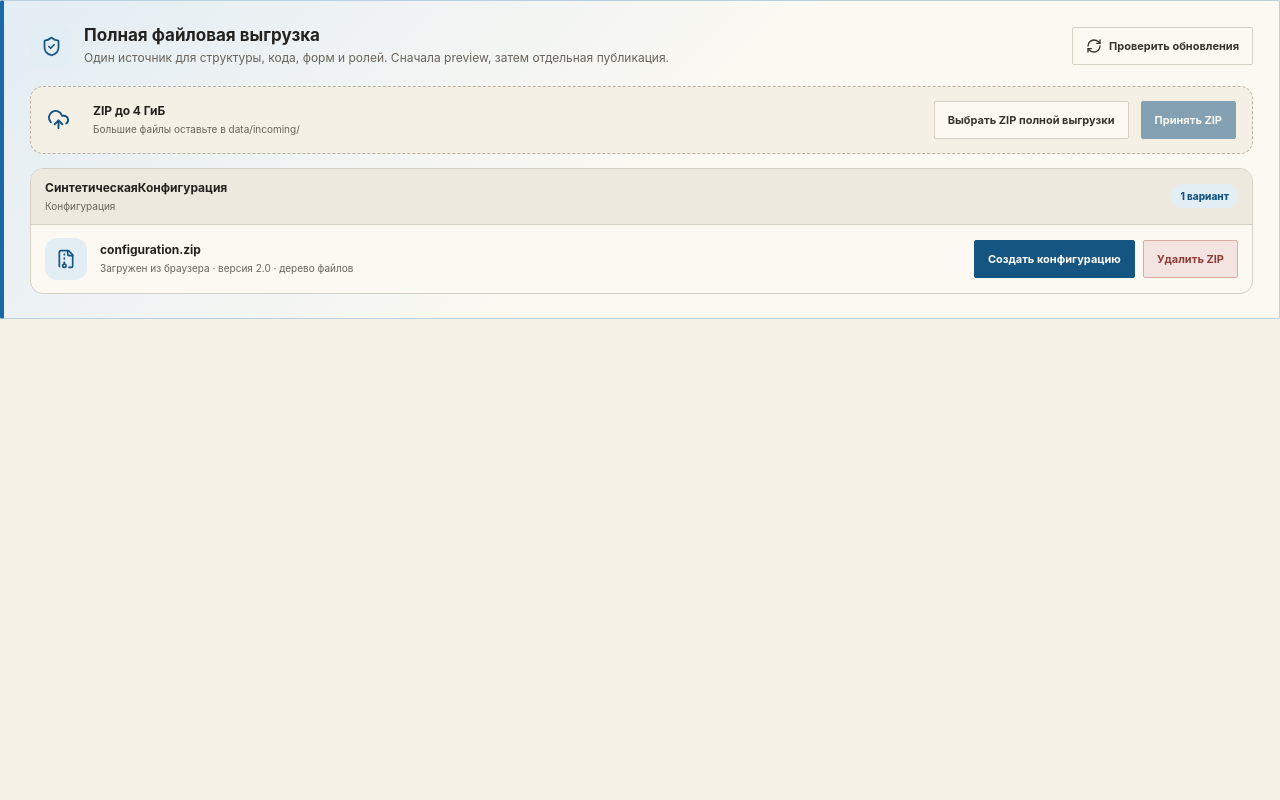
удаляет только браузерный ZIP после подтверждения
Click the button "Удалить ZIP": (1190, 259) [1143,240,1238,278]
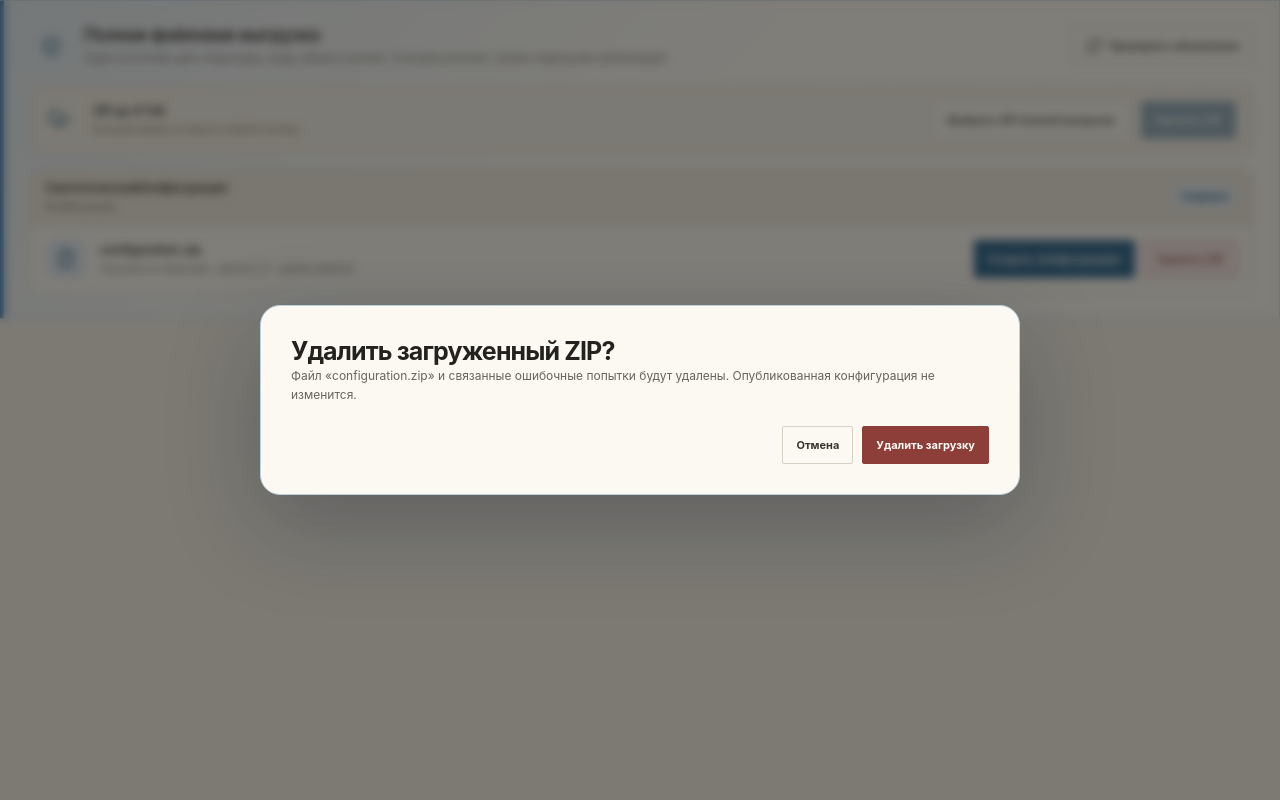
Click the button "Удалить загрузку": (926, 445) [862,426,989,464]
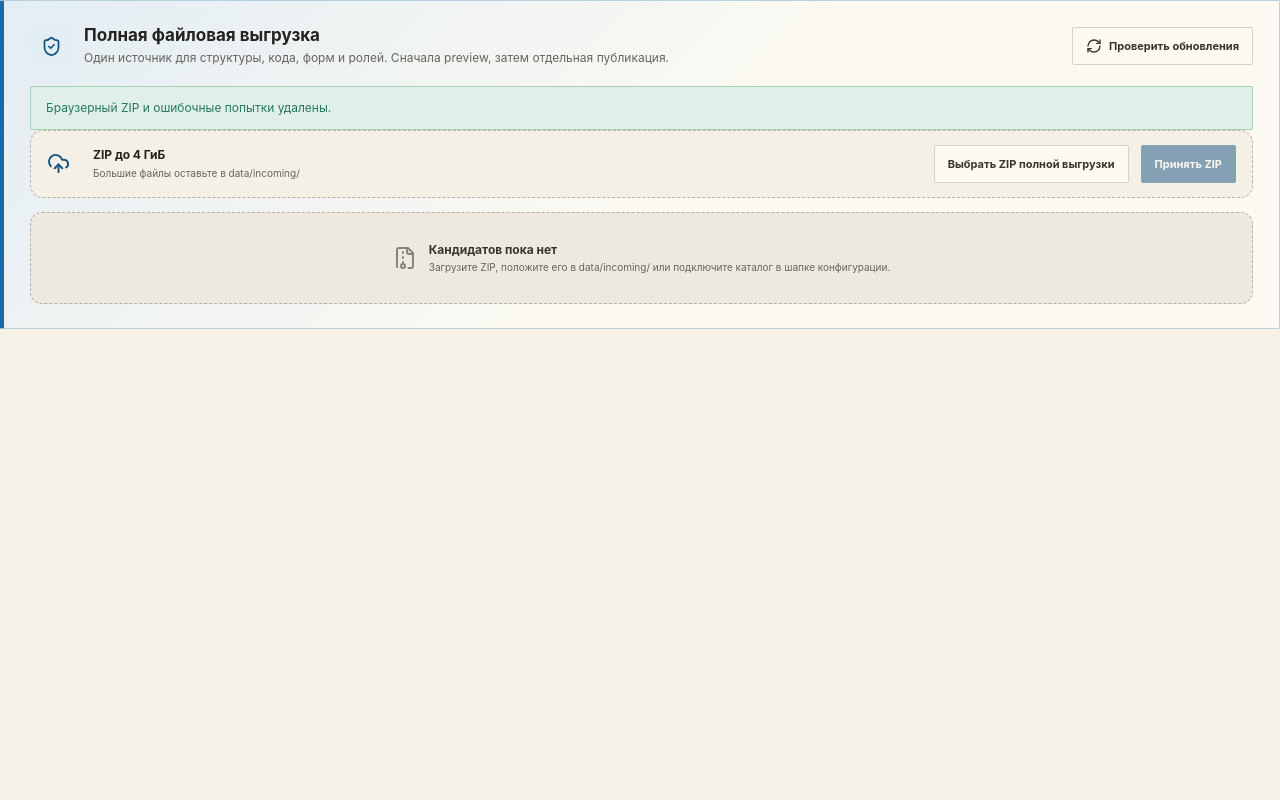
Check: the text "Кандидатов пока нет" is shown, box [429,242,557,257]
